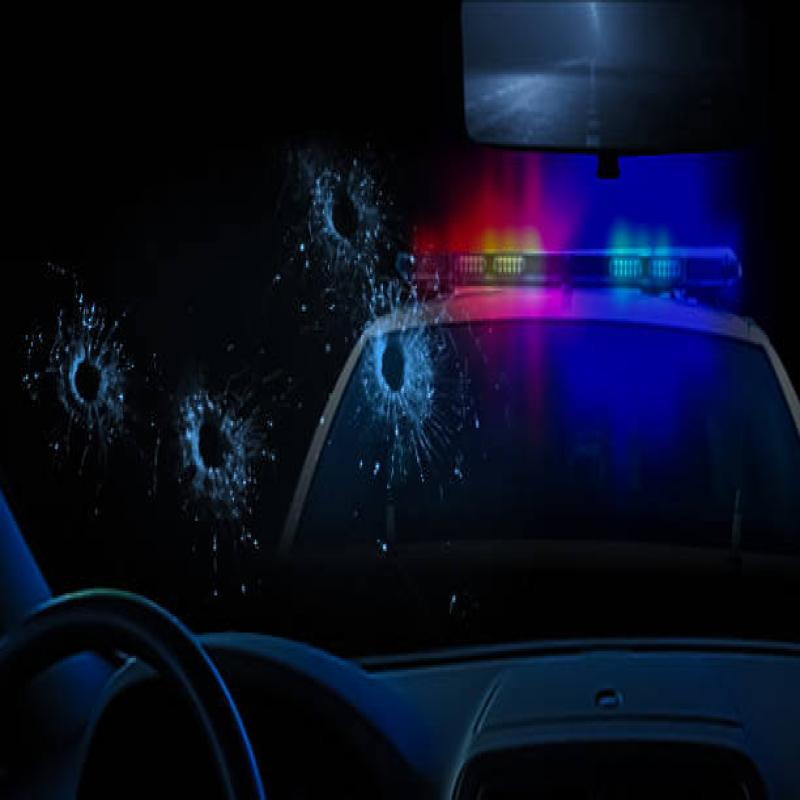AmbulanceSiren: (413, 233, 746, 308)
